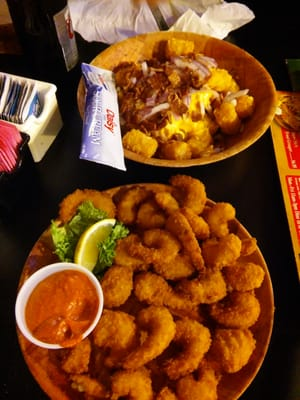sushi: (90, 30, 276, 166), (16, 262, 105, 352)
